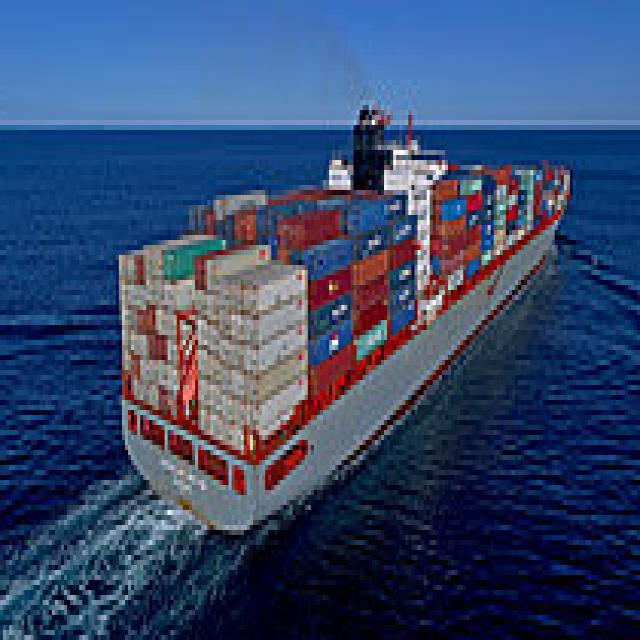Cargo: (119, 90, 576, 530)
